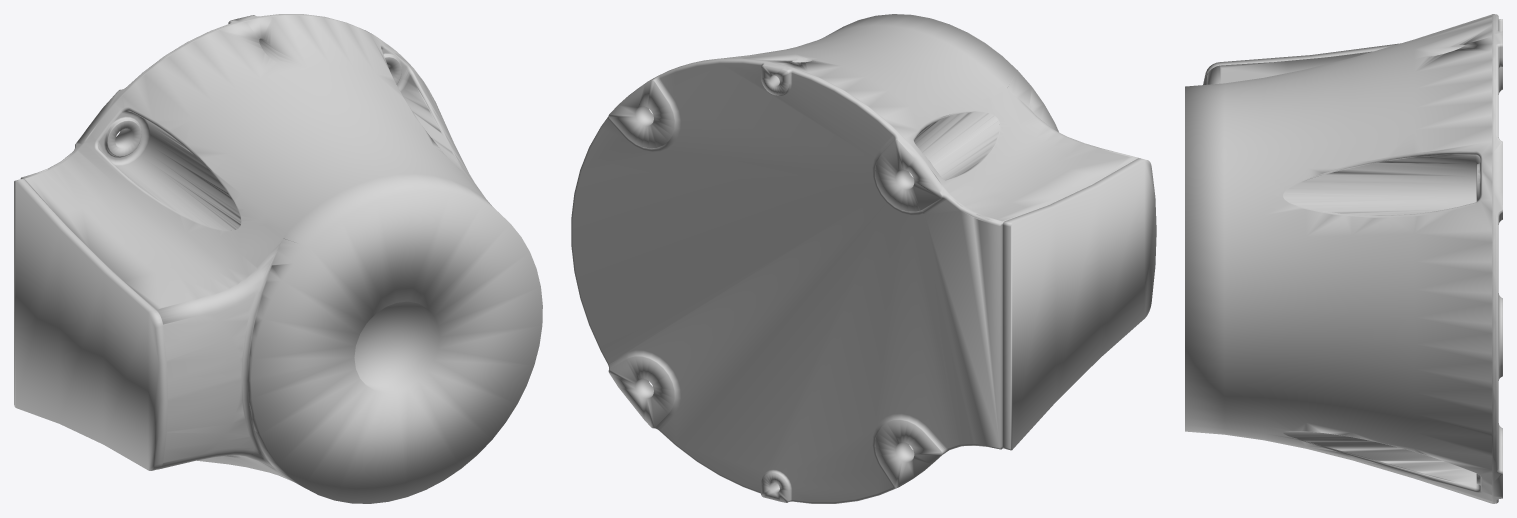
The picture shows the model from 3 angles, left to right: view 1: azimuth 30°, elevation 25°; view 2: azimuth 150°, elevation 25°; view 3: azimuth 270°, elevation 25°; orthographic projection. The views are drawn at different scales.
Parts seen in each view (by area): view 1: Link0_14_ShapeIndexedFaceSet.003; view 2: Link0_14_ShapeIndexedFaceSet.003; view 3: Link0_14_ShapeIndexedFaceSet.003.
Boxes of the visible parts, x1,y1,x2,y2 form: Link0_14_ShapeIndexedFaceSet.003: [14, 14, 542, 503]; Link0_14_ShapeIndexedFaceSet.003: [571, 14, 1156, 503]; Link0_14_ShapeIndexedFaceSet.003: [1185, 14, 1502, 503].
Bounding box in the file's own units: 0.2575 × 0.2426 × 0.1575.
1 material, 1 textured.
